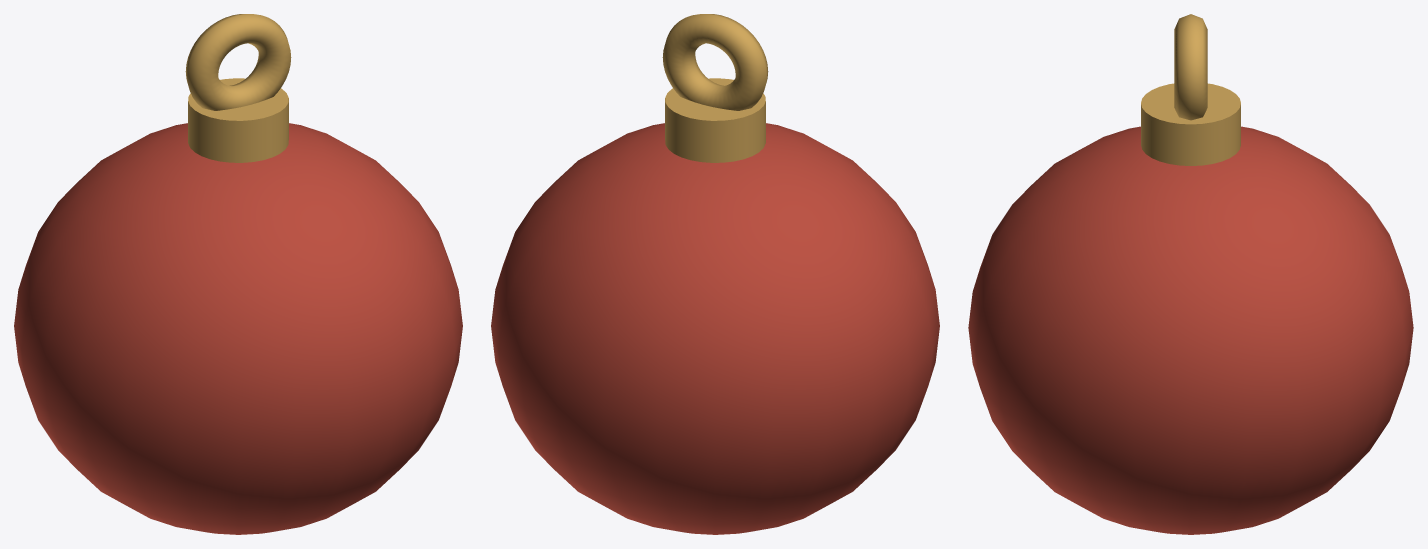
The model's file is wp-boule-de-noel.glb.
The picture shows the model from 3 angles, left to right: view 1: azimuth 30°, elevation 25°; view 2: azimuth 150°, elevation 25°; view 3: azimuth 270°, elevation 25°; orthographic projection.
Parts seen in each view (by area): view 1: wp-boule-de-noel; view 2: wp-boule-de-noel; view 3: wp-boule-de-noel.
Boxes of the visible parts, left/top/right/bottom form: wp-boule-de-noel: left=14, top=14, right=462, bottom=534; wp-boule-de-noel: left=491, top=14, right=939, bottom=534; wp-boule-de-noel: left=968, top=14, right=1413, bottom=534.
Size of the model in its own units: 0.09 by 0.11 by 0.09.
